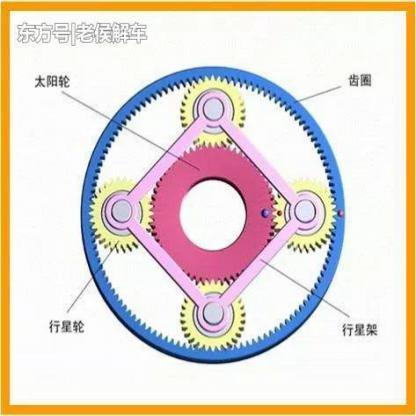FOD: (177, 75, 248, 151), (178, 278, 244, 353), (90, 176, 154, 253)
